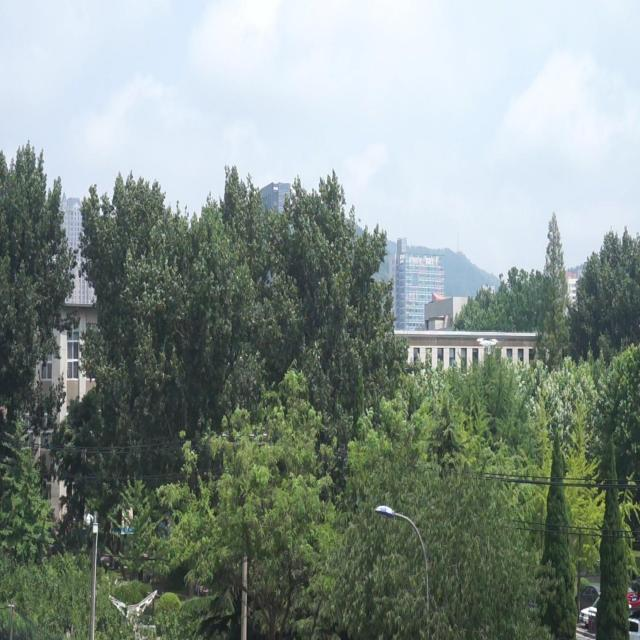UAV: (476, 338, 499, 354)
